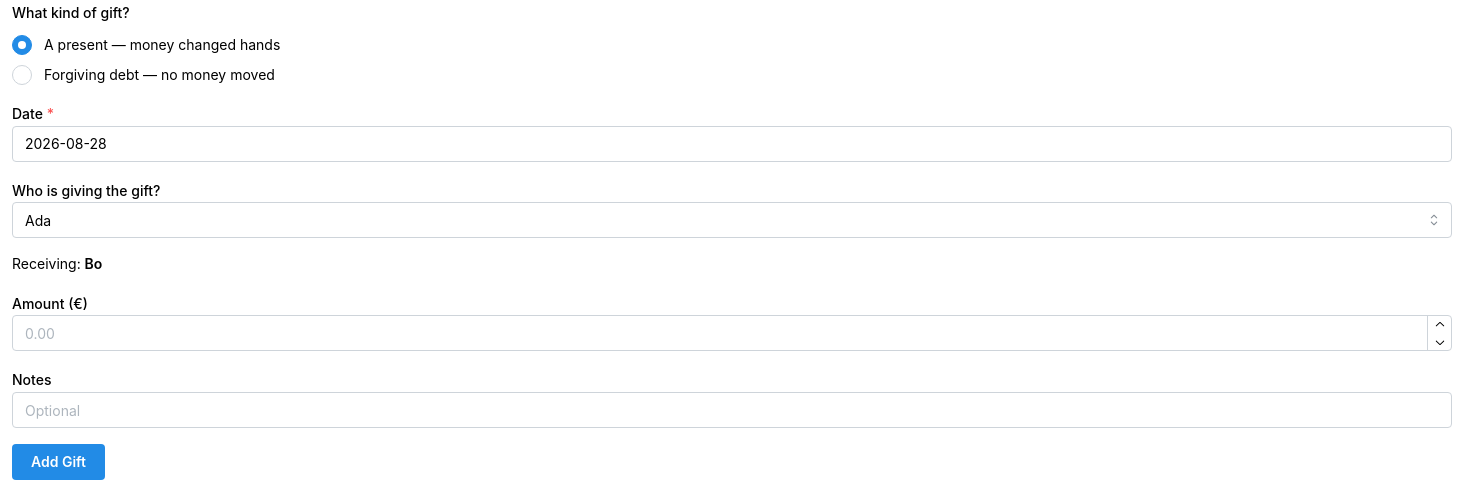
Test: gift kind › resets to a present after adding, not to whatever was last chosen
The image size is (1464, 497).
Click the radio button labelled "Forgiving debt — no money moved" at (22, 75), box 12,65 -> 32,85
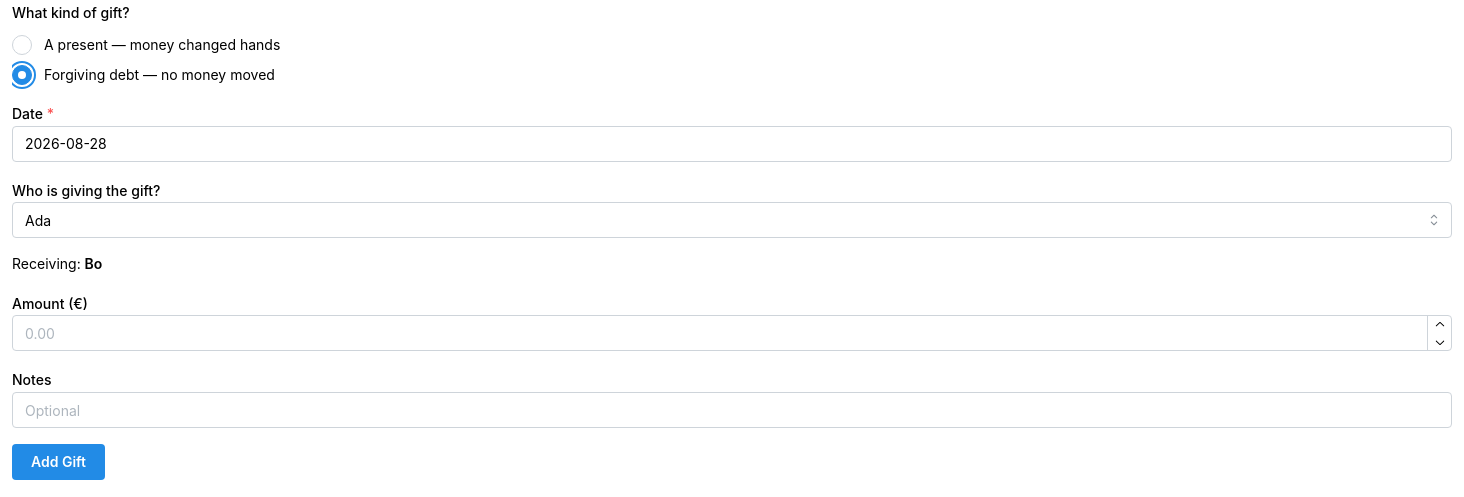
Type "25" into the field labelled "Amount (€)" at (732, 334), box 12,316 -> 1452,352
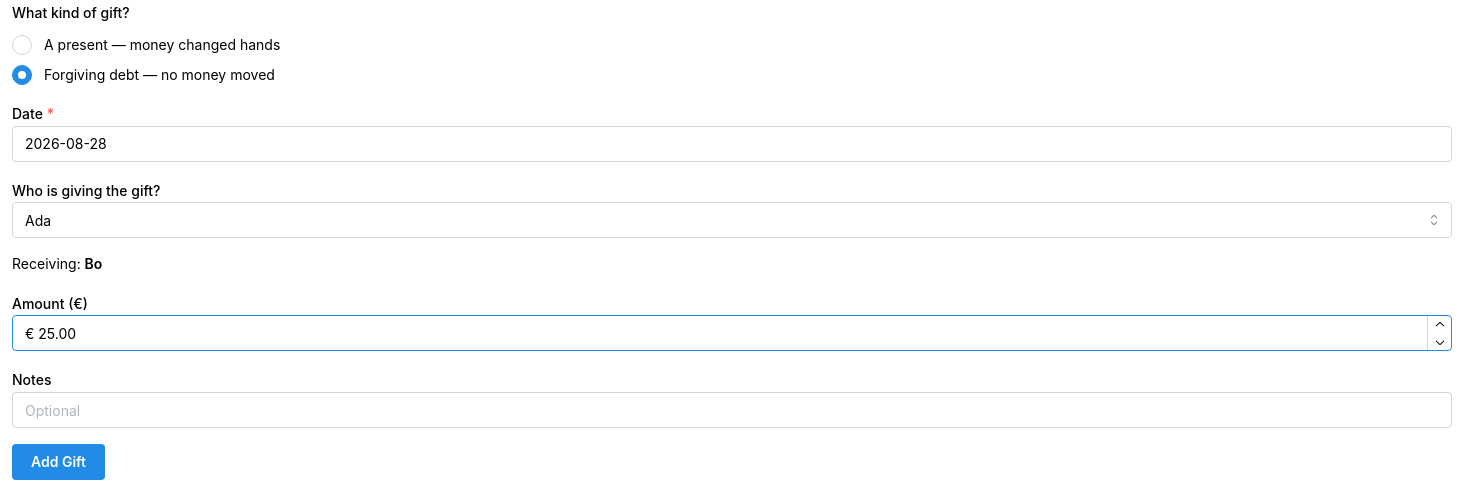
Click the button "Add Gift" at (58, 462), box 12,444 -> 105,480
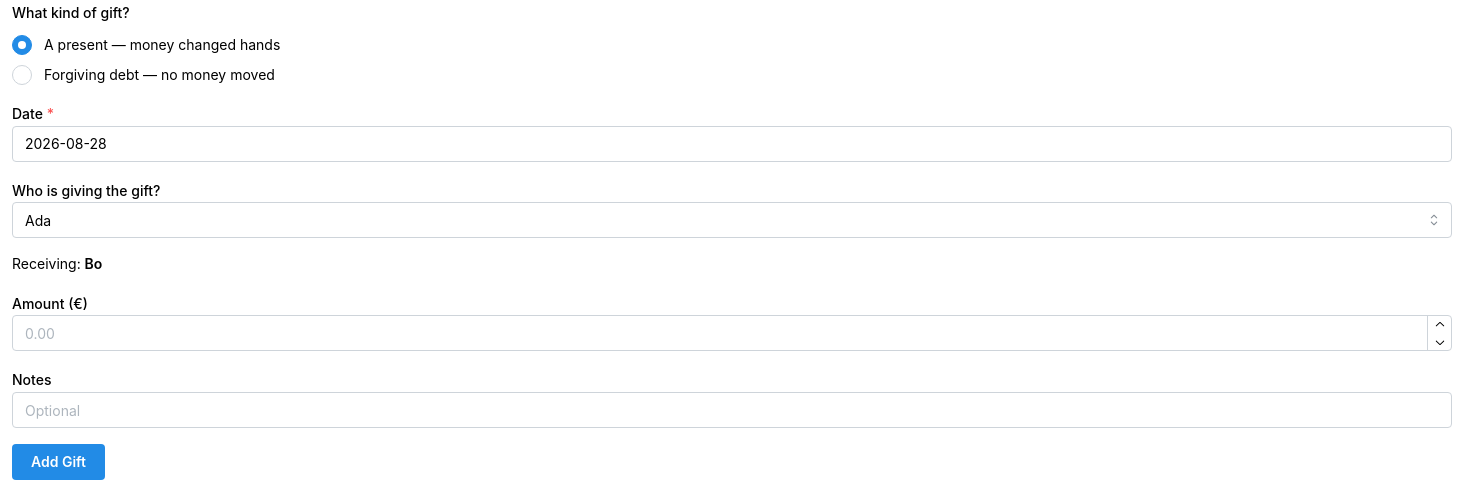
expect the radio button labelled "A present — money changed hands" is checked: met, box 12,35 -> 32,55
